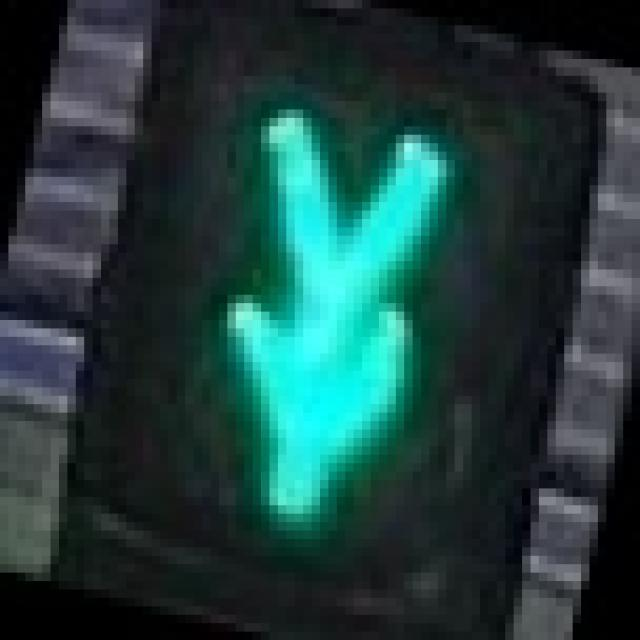geen-crossing: (152, 76, 472, 539)
